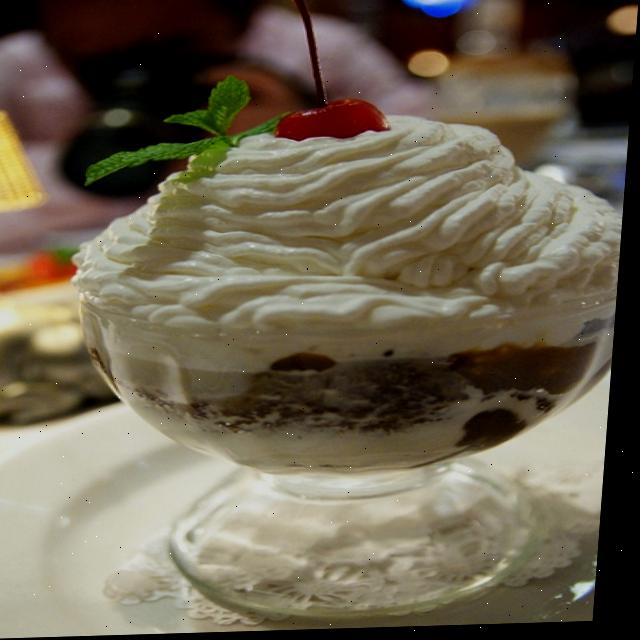蛋糕甜品: (26, 37, 637, 633)
